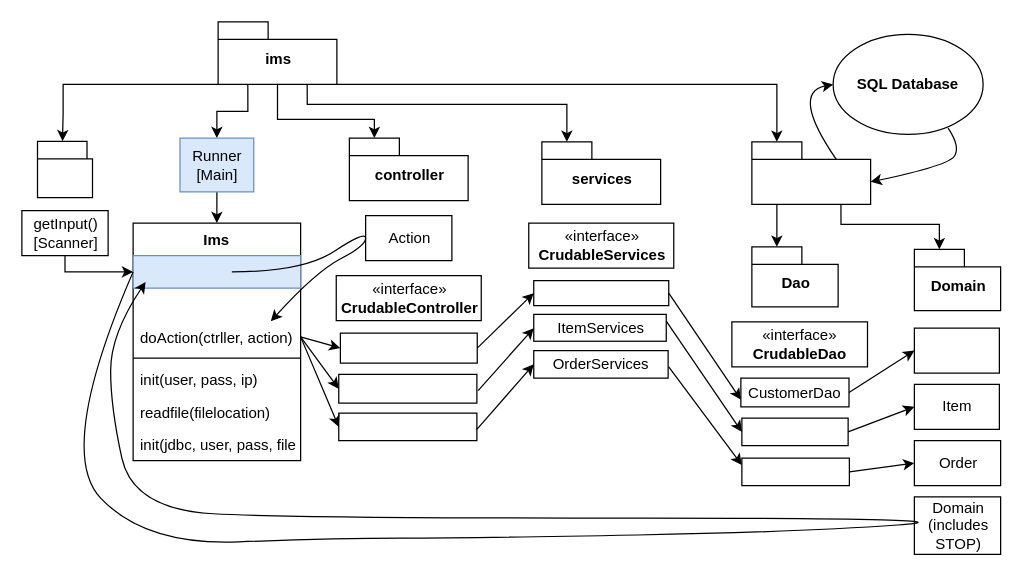
The diagram is 1023 pixels wide and 576 high, and some of its shapes have lost their labels. The shapes that lost their labels are listed below. From the top down, each one's centre as x and y in pixels, then its label:
[64,169]: utils
[811,172]: persistence
[216,271]: ImsSystem()
[600,292]: CustomerServices
[408,347]: CustomerController
[956,350]: Customer
[407,388]: ItemController
[407,426]: OrderController
[794,431]: ItemDao
[795,471]: OrderDao
